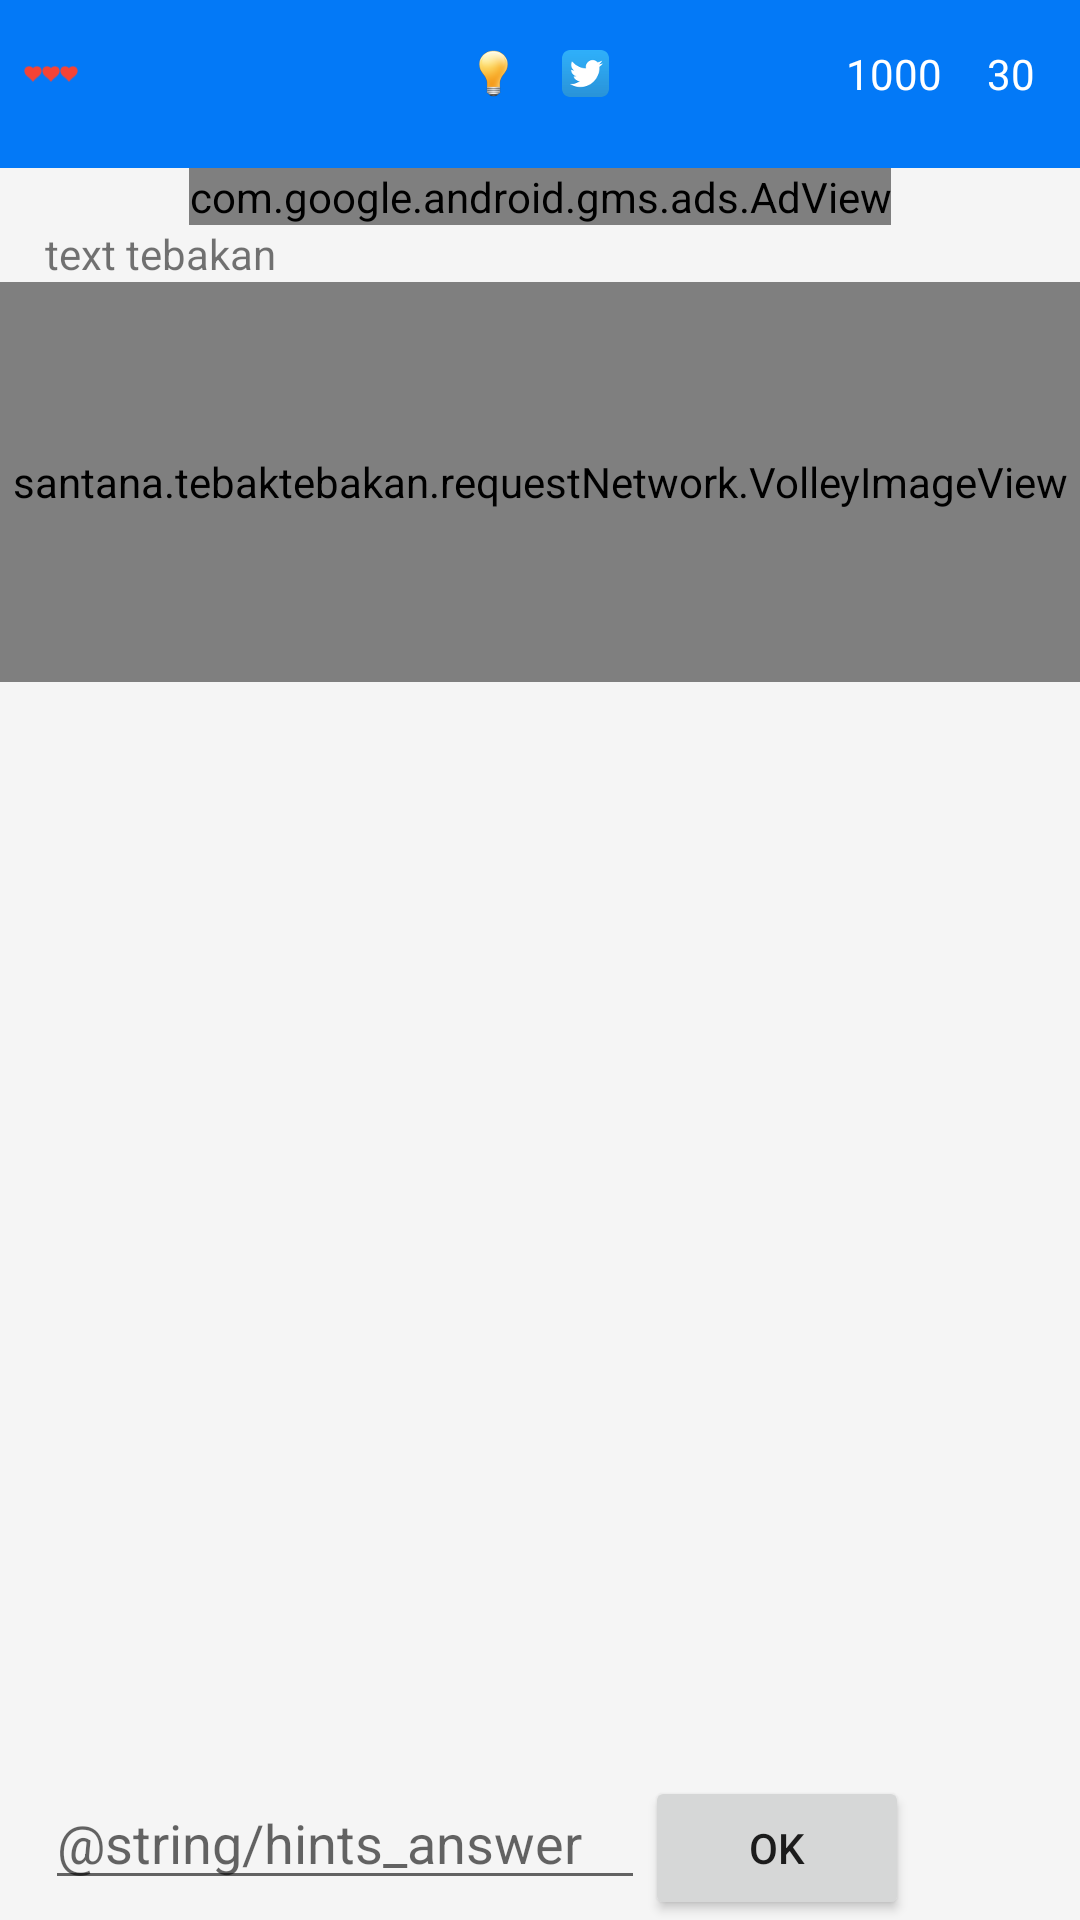

Locate icon controls on the screen. Image size 1080x1920, boxes as (x1, y1, x2, y2).
hints: (479, 50, 508, 97)
